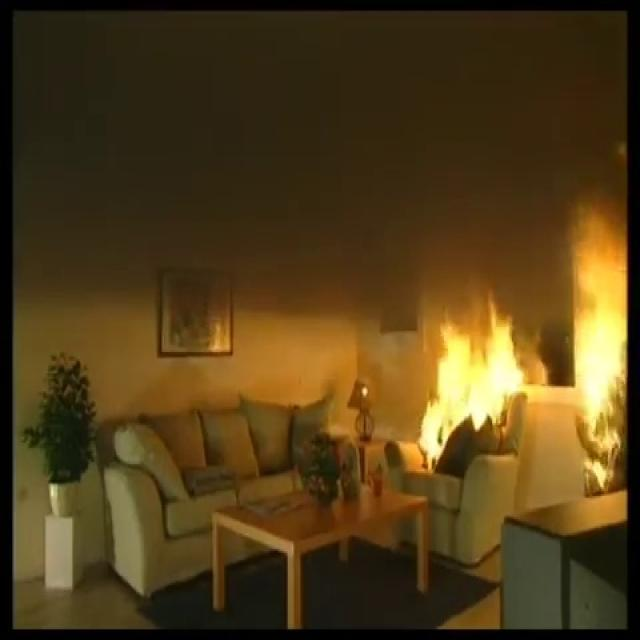Fire: (422, 306, 530, 462), (570, 193, 634, 410)
Smoke: (8, 9, 382, 296), (322, 0, 564, 274)
